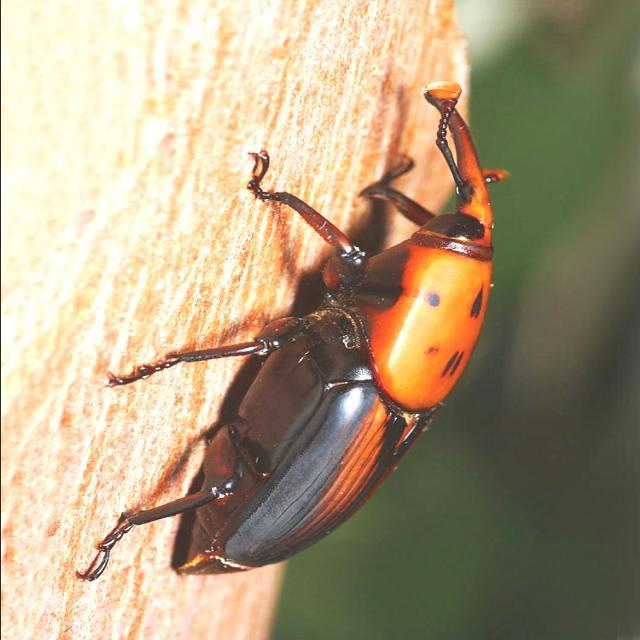Red-palm-weevil: (188, 81, 516, 575)
